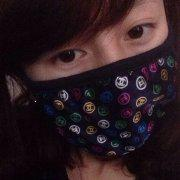OK: (28, 6, 179, 157)
